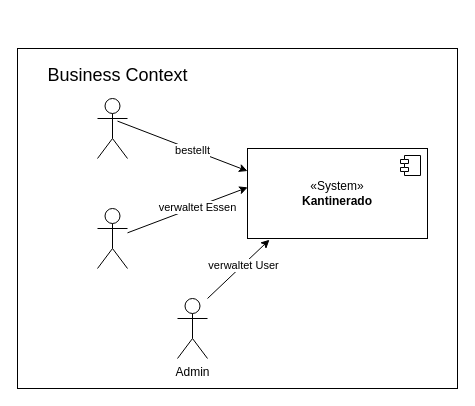
Some shapes in this 475 by 406 pixel diagram are drawn without their labels. Here are the shapes that lost their labels. From the top down, the centre of each, then its label:
At point 112,128: "User".
At point 112,238: "Kantinenuser".
